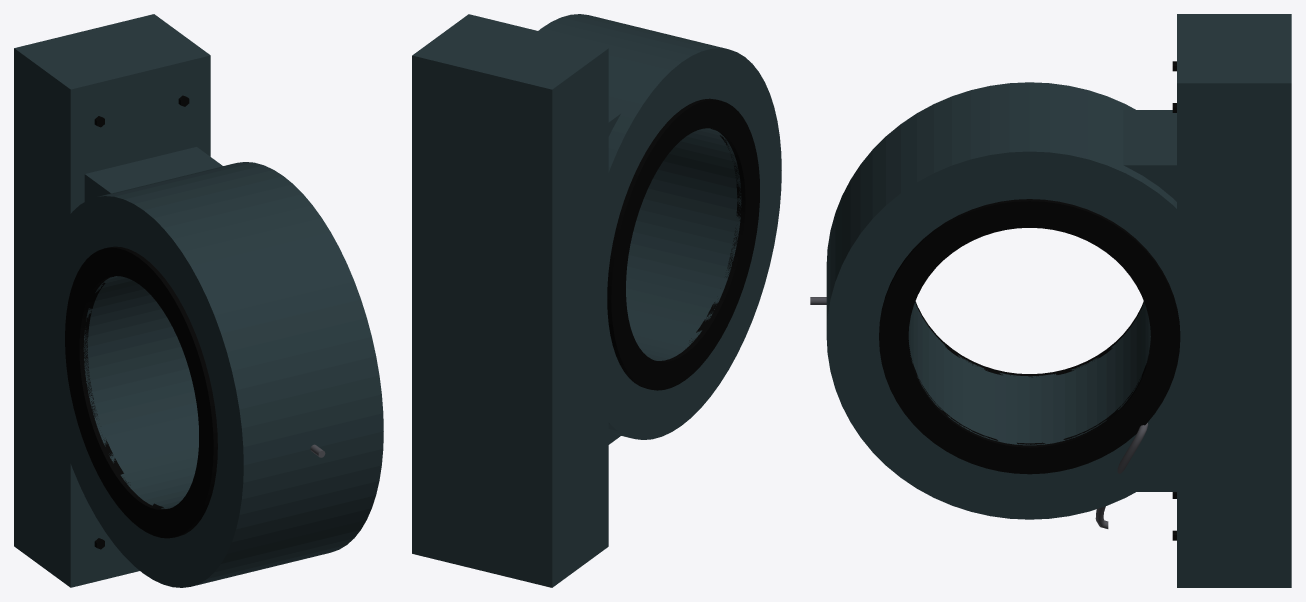
Rendered from main_bearing.obj.
3 renders of one model, left to right at view 1: azimuth 30°, elevation 25°; view 2: azimuth 150°, elevation 25°; view 3: azimuth 270°, elevation 25°, orthographic.
Parts seen in each view (by area): view 1: main_bearing; view 2: main_bearing; view 3: main_bearing.
Boxes of the visible parts, box(x1,y1,x2,y2) form: main_bearing: box(14, 14, 383, 587); main_bearing: box(412, 14, 781, 587); main_bearing: box(810, 14, 1291, 587).
Size of the model in its own units: 0.552 by 1.7 by 1.47.
